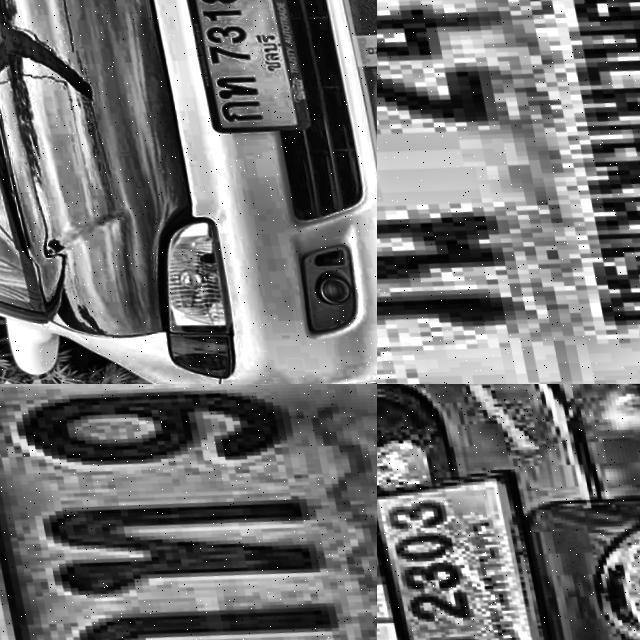license-plate: (377, 0, 640, 384), (0, 384, 377, 640), (377, 445, 573, 640), (172, 0, 309, 135)
